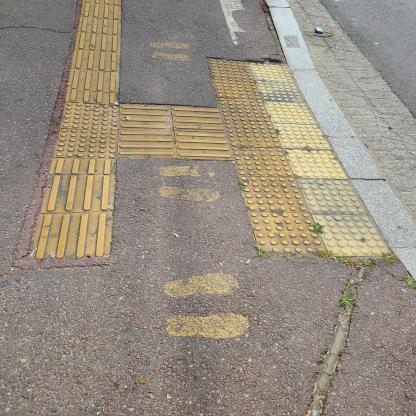podotacti: (206, 39, 402, 266), (27, 1, 128, 264), (128, 100, 236, 162)
